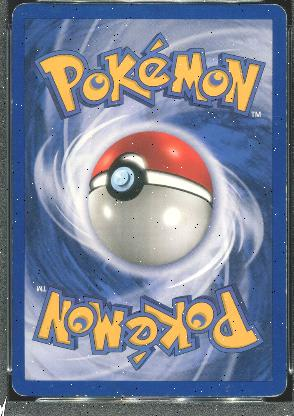Card: (7, 0, 289, 400)
Corner Wear: (264, 378, 287, 398), (10, 382, 29, 396), (11, 6, 17, 26)
Edge Wear: (284, 17, 286, 300), (270, 4, 286, 16), (201, 395, 266, 397), (284, 310, 286, 350), (11, 97, 13, 117), (73, 394, 88, 396), (116, 395, 126, 396)
Scratch: (253, 344, 270, 352), (222, 384, 229, 390), (46, 384, 54, 388), (237, 372, 241, 376), (246, 374, 249, 376)
